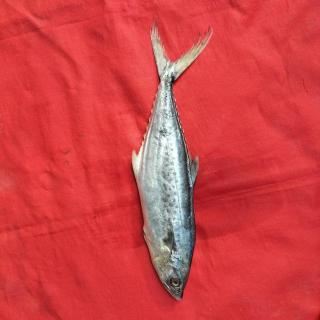Ikan: (120, 16, 240, 312)
